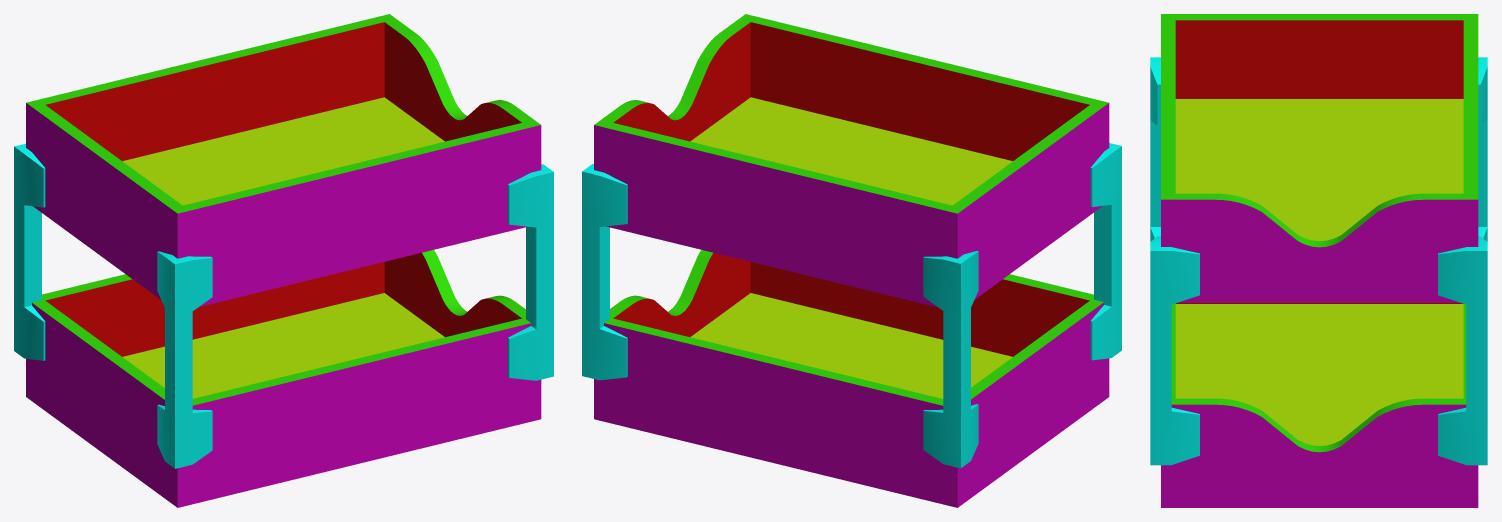
The model's file is CT_PaperTray.fbx.
The picture shows the model from 3 angles, left to right: view 1: azimuth 30°, elevation 25°; view 2: azimuth 150°, elevation 25°; view 3: azimuth 270°, elevation 25°; orthographic projection. The views are drawn at different scales.
Parts seen in each view (by area): view 1: PaperTray-high; view 2: PaperTray-high; view 3: PaperTray-high.
Part boxes in pixels (x1,y1,x2,y2): PaperTray-high: [14, 14, 553, 507]; PaperTray-high: [582, 14, 1121, 507]; PaperTray-high: [1150, 14, 1487, 507].
Size of the model in its own units: 0.6458 by 0.4795 by 0.4756.
